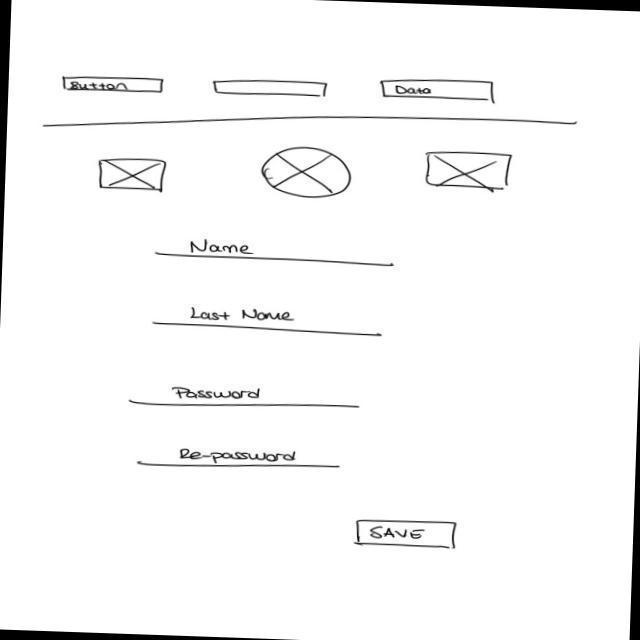button: (354, 517, 458, 551), (379, 77, 497, 103), (60, 74, 165, 96)
image: (260, 146, 355, 202), (424, 150, 515, 191), (98, 157, 169, 193)
input: (150, 304, 385, 339), (155, 237, 396, 269), (128, 383, 364, 415), (134, 444, 342, 475), (211, 78, 330, 99)
